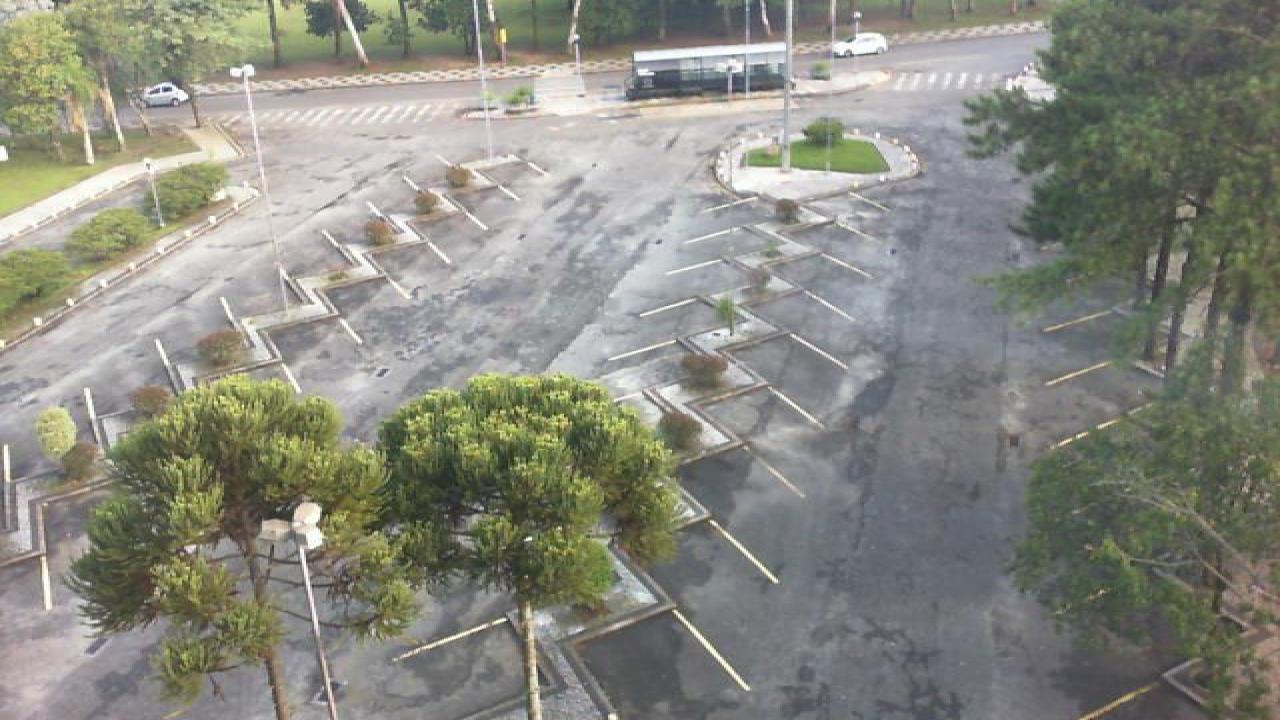Car: (832, 31, 890, 58), (1004, 74, 1056, 102), (140, 81, 190, 108)
